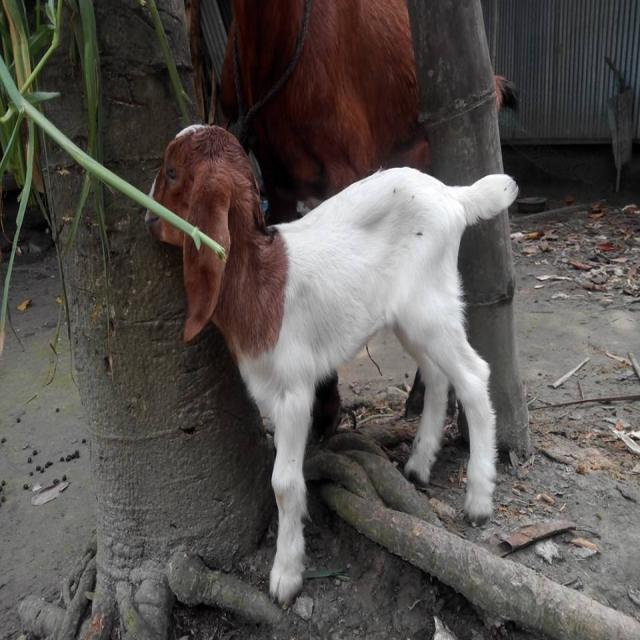Goat: (143, 120, 519, 605), (217, 0, 517, 440)
